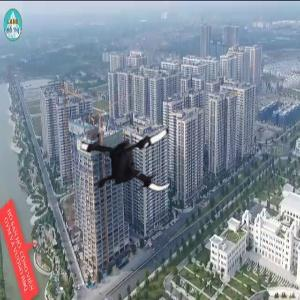drone: (70, 106, 180, 216)
